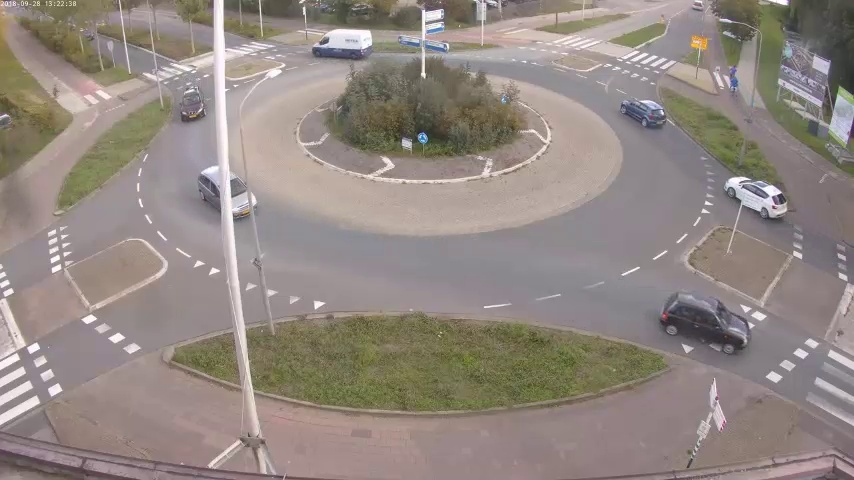bicycle: (727, 65, 737, 97)
car: (663, 291, 748, 355), (198, 158, 257, 221), (726, 170, 794, 219), (622, 93, 659, 126), (180, 84, 207, 128), (692, 3, 708, 14)
van: (311, 25, 373, 60)
